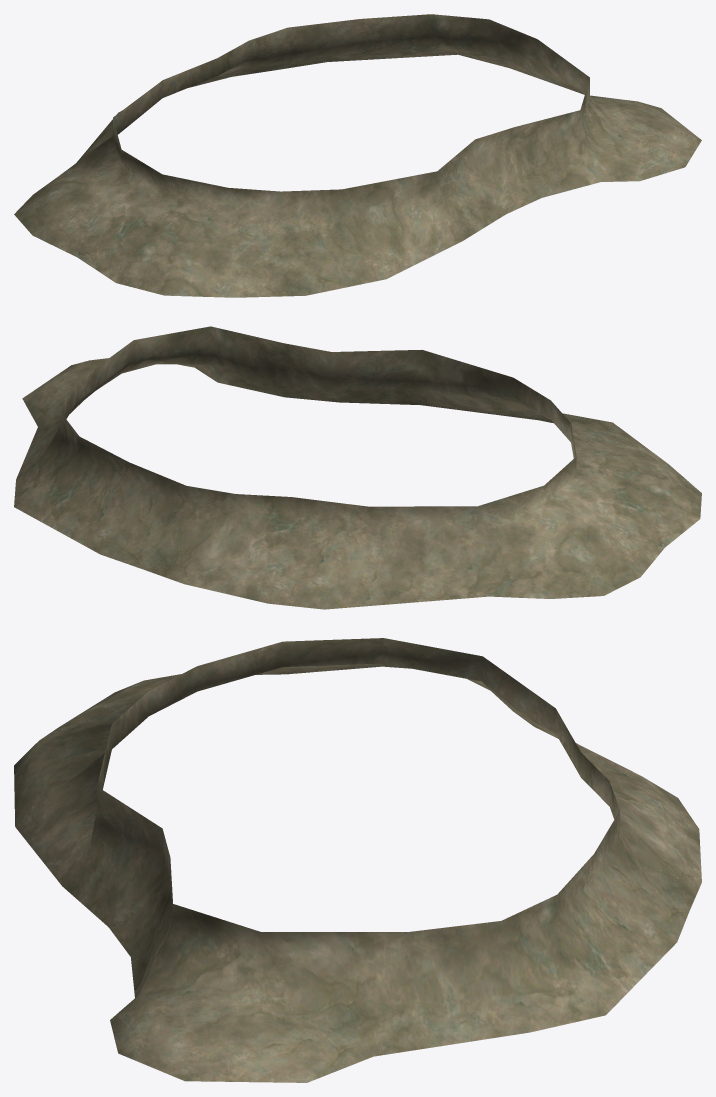
Rendered from OVERHILL_A_01_CHIMNEY_CAVE_LOWER_ROOF.fbx.
3 views of the same model, one above another, from view 1: azimuth 30°, elevation 25°; view 2: azimuth 150°, elevation 25°; view 3: azimuth 270°, elevation 25° (orthographic). The views are drawn at different scales.
Visible parts, largest first — view 1: OVERHILL_A_01_CHIMNEY_CAVE_LOWER_ROOF; view 2: OVERHILL_A_01_CHIMNEY_CAVE_LOWER_ROOF; view 3: OVERHILL_A_01_CHIMNEY_CAVE_LOWER_ROOF.
Part boxes in pixels (x1,y1,x2,y2): OVERHILL_A_01_CHIMNEY_CAVE_LOWER_ROOF: [14, 14, 701, 297]; OVERHILL_A_01_CHIMNEY_CAVE_LOWER_ROOF: [14, 326, 701, 609]; OVERHILL_A_01_CHIMNEY_CAVE_LOWER_ROOF: [14, 638, 701, 1082].
Size of the model in its own units: 117395 by 12552 by 81989.
1 material, 1 textured.
